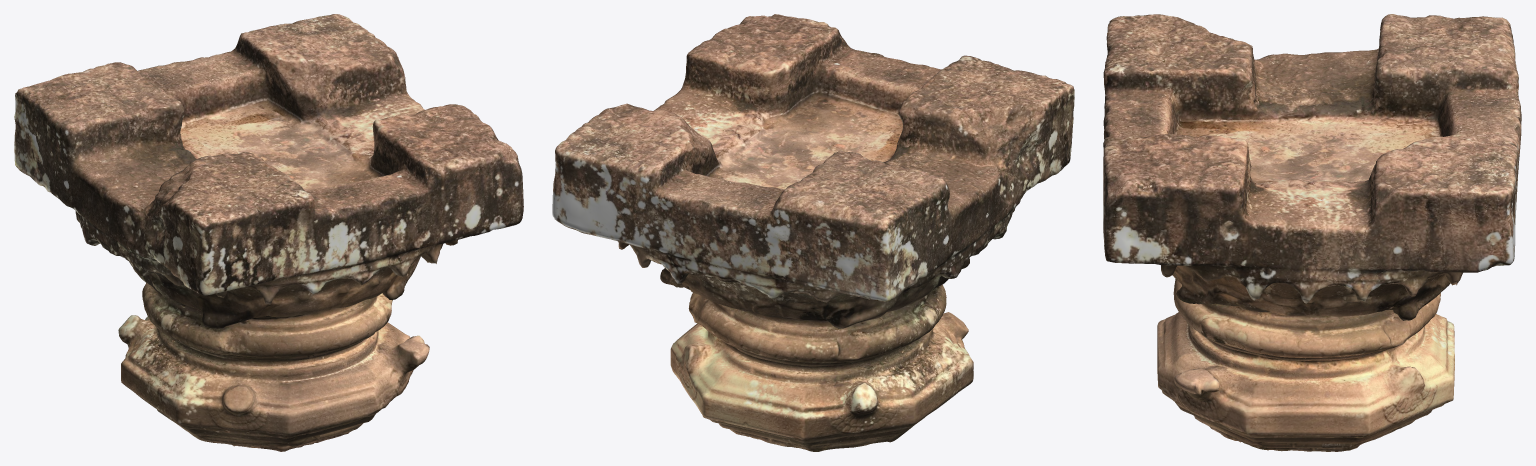
Rendered from 09_MysonSanctuaryD_VatkienTruc_final.glb.
3 views of the same model, side by side, from view 1: azimuth 30°, elevation 25°; view 2: azimuth 150°, elevation 25°; view 3: azimuth 270°, elevation 25° (orthographic). The views are drawn at different scales.
Bounding box in the file's own units: 0.9497 × 0.8013 × 0.9626.
Materials: 1 (1 with a texture image).
